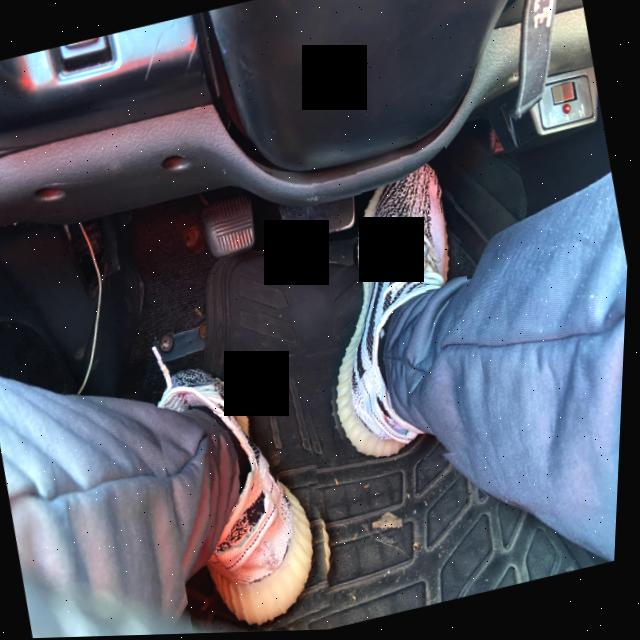shoe: (136, 303, 369, 636), (280, 148, 509, 485)
